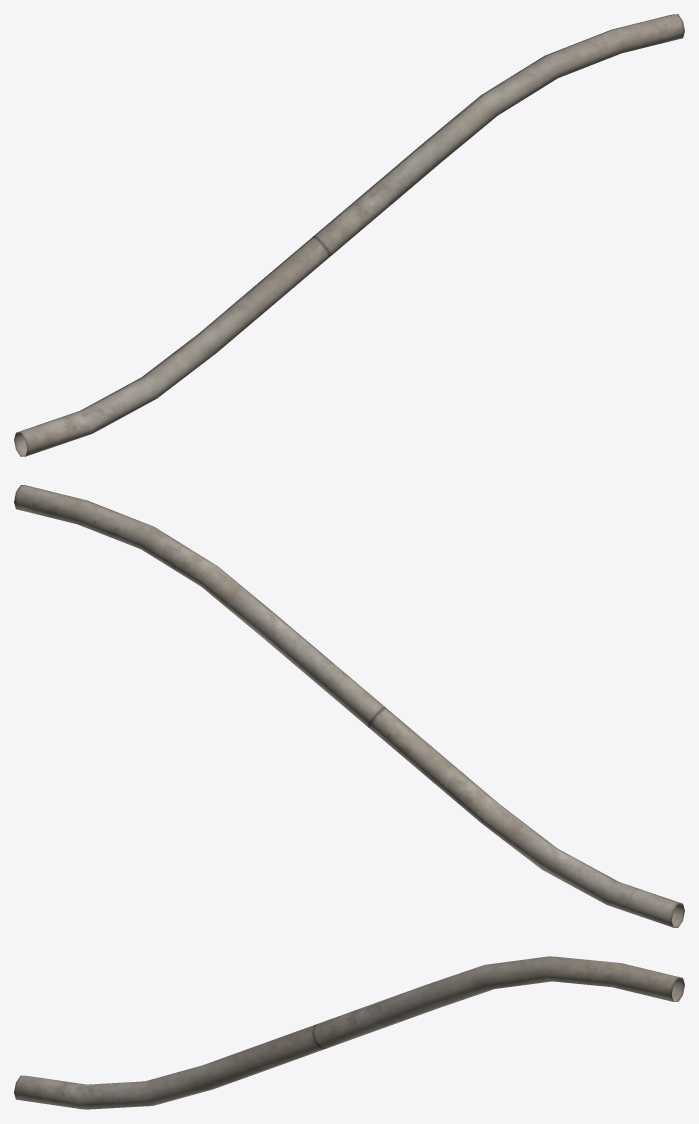
The model's file is curtain_changeheight.dae.
The picture shows the model from 3 angles, top to bottom: view 1: azimuth 30°, elevation 25°; view 2: azimuth 150°, elevation 25°; view 3: azimuth 330°, elevation 25°; orthographic projection.
Parts seen in each view (by area): view 1: changeheight; view 2: changeheight; view 3: changeheight.
Part boxes in pixels (x1,y1,x2,y2): changeheight: (14,14,684,456); changeheight: (14,485,684,927); changeheight: (14,956,684,1109).
Size of the model in its own units: 2 by 0.8204 by 0.0706.
